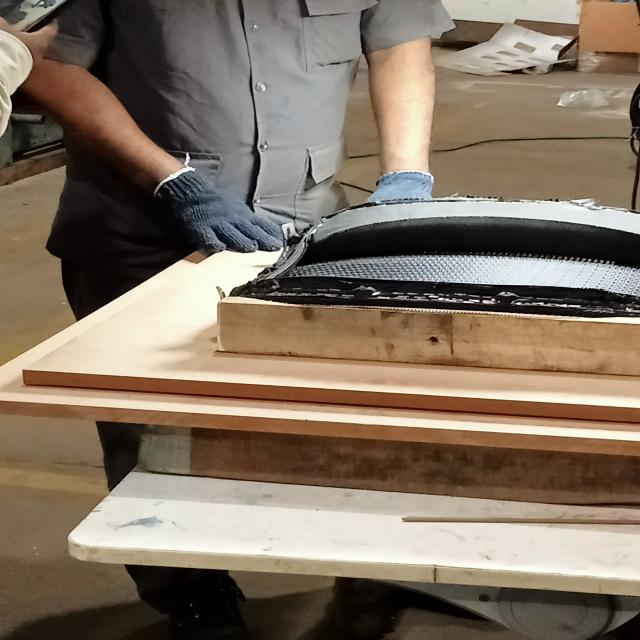Gloves-Detection: (146, 165, 286, 258)
